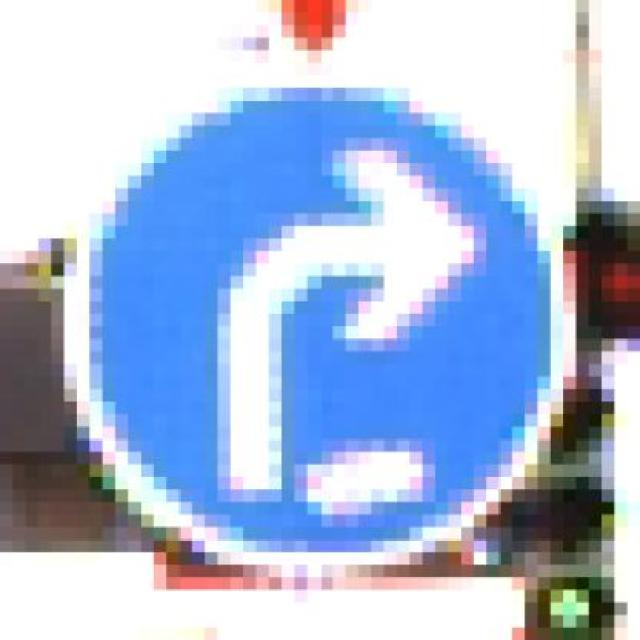Turn right ahead: (49, 77, 588, 580)
